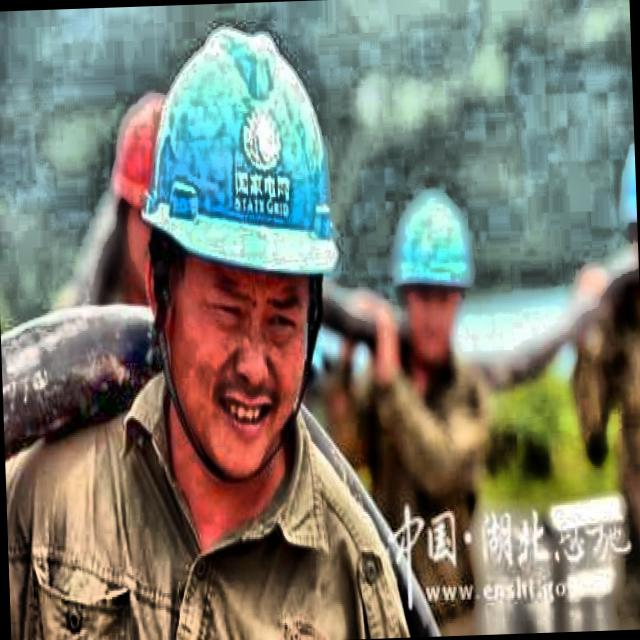helmet: (122, 20, 364, 500), (386, 175, 480, 372)
